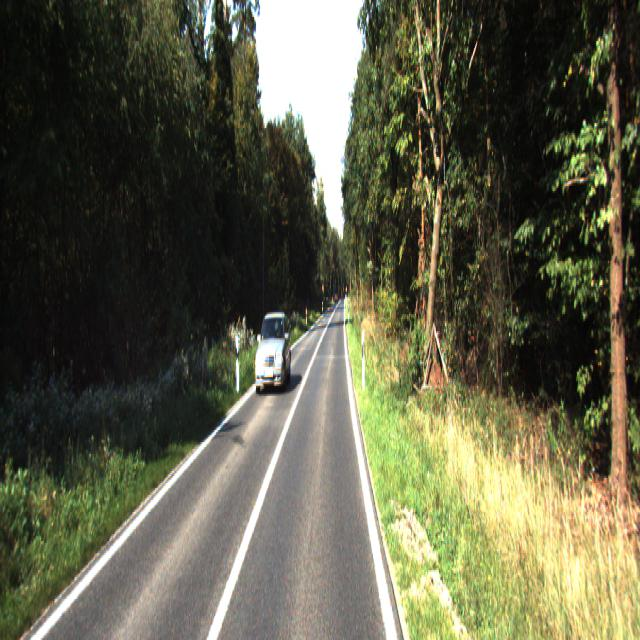Car: (254, 311, 294, 396)
